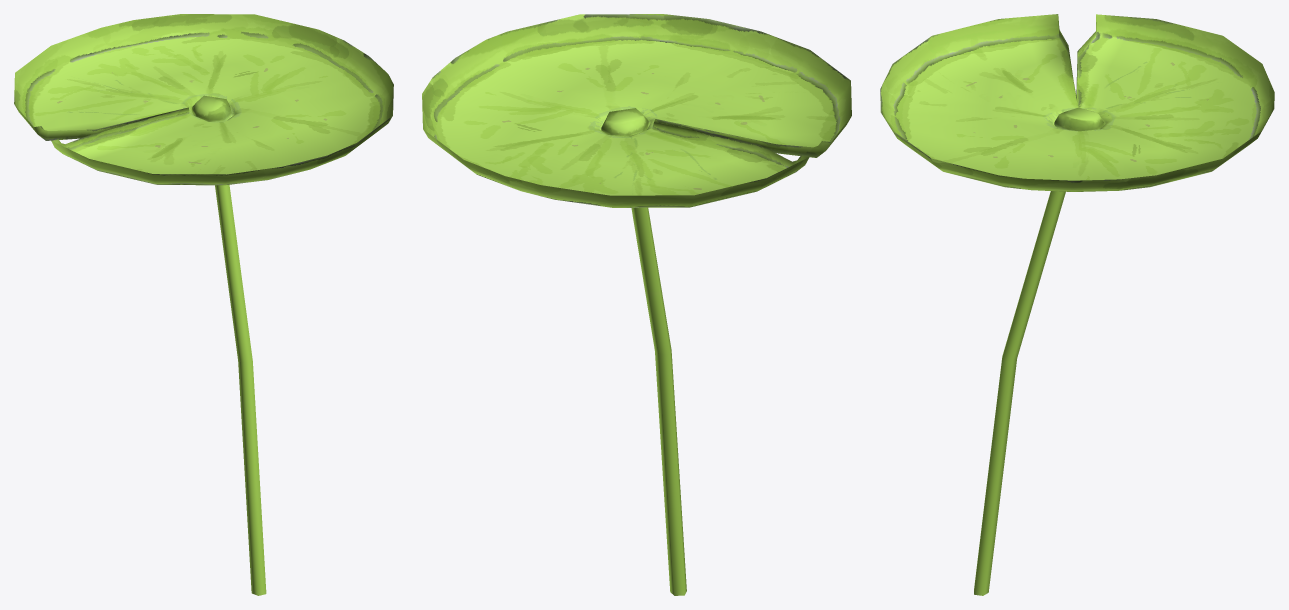
The model's file is Pad_lily.fbx.
3 views of the same model, side by side, from view 1: azimuth 30°, elevation 25°; view 2: azimuth 150°, elevation 25°; view 3: azimuth 270°, elevation 25° (orthographic). The views are drawn at different scales.
Visible parts, largest first — view 1: tube; view 2: tube; view 3: tube.
Boxes of the visible parts, x1,y1,x2,y2 form: tube: (14, 14, 393, 595); tube: (422, 14, 851, 595); tube: (880, 14, 1274, 595).
Size of the model in its own units: 197 by 271 by 197.
